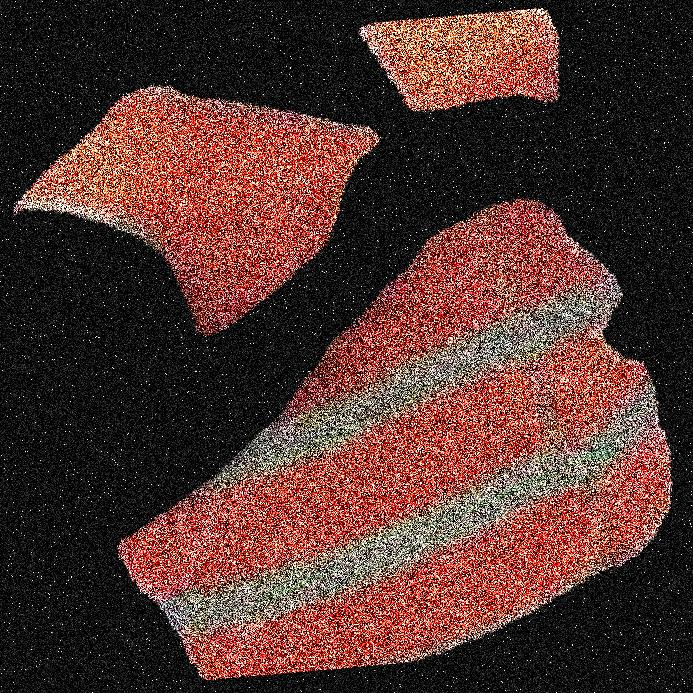Colete: (176, 0, 599, 692)
